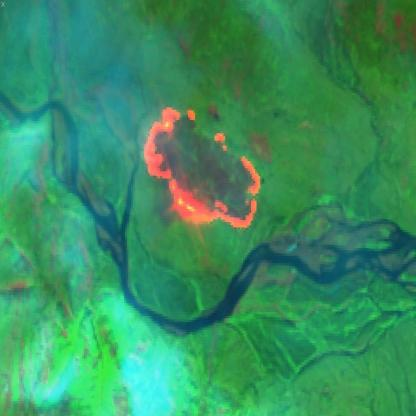fire: (140, 101, 264, 235)
